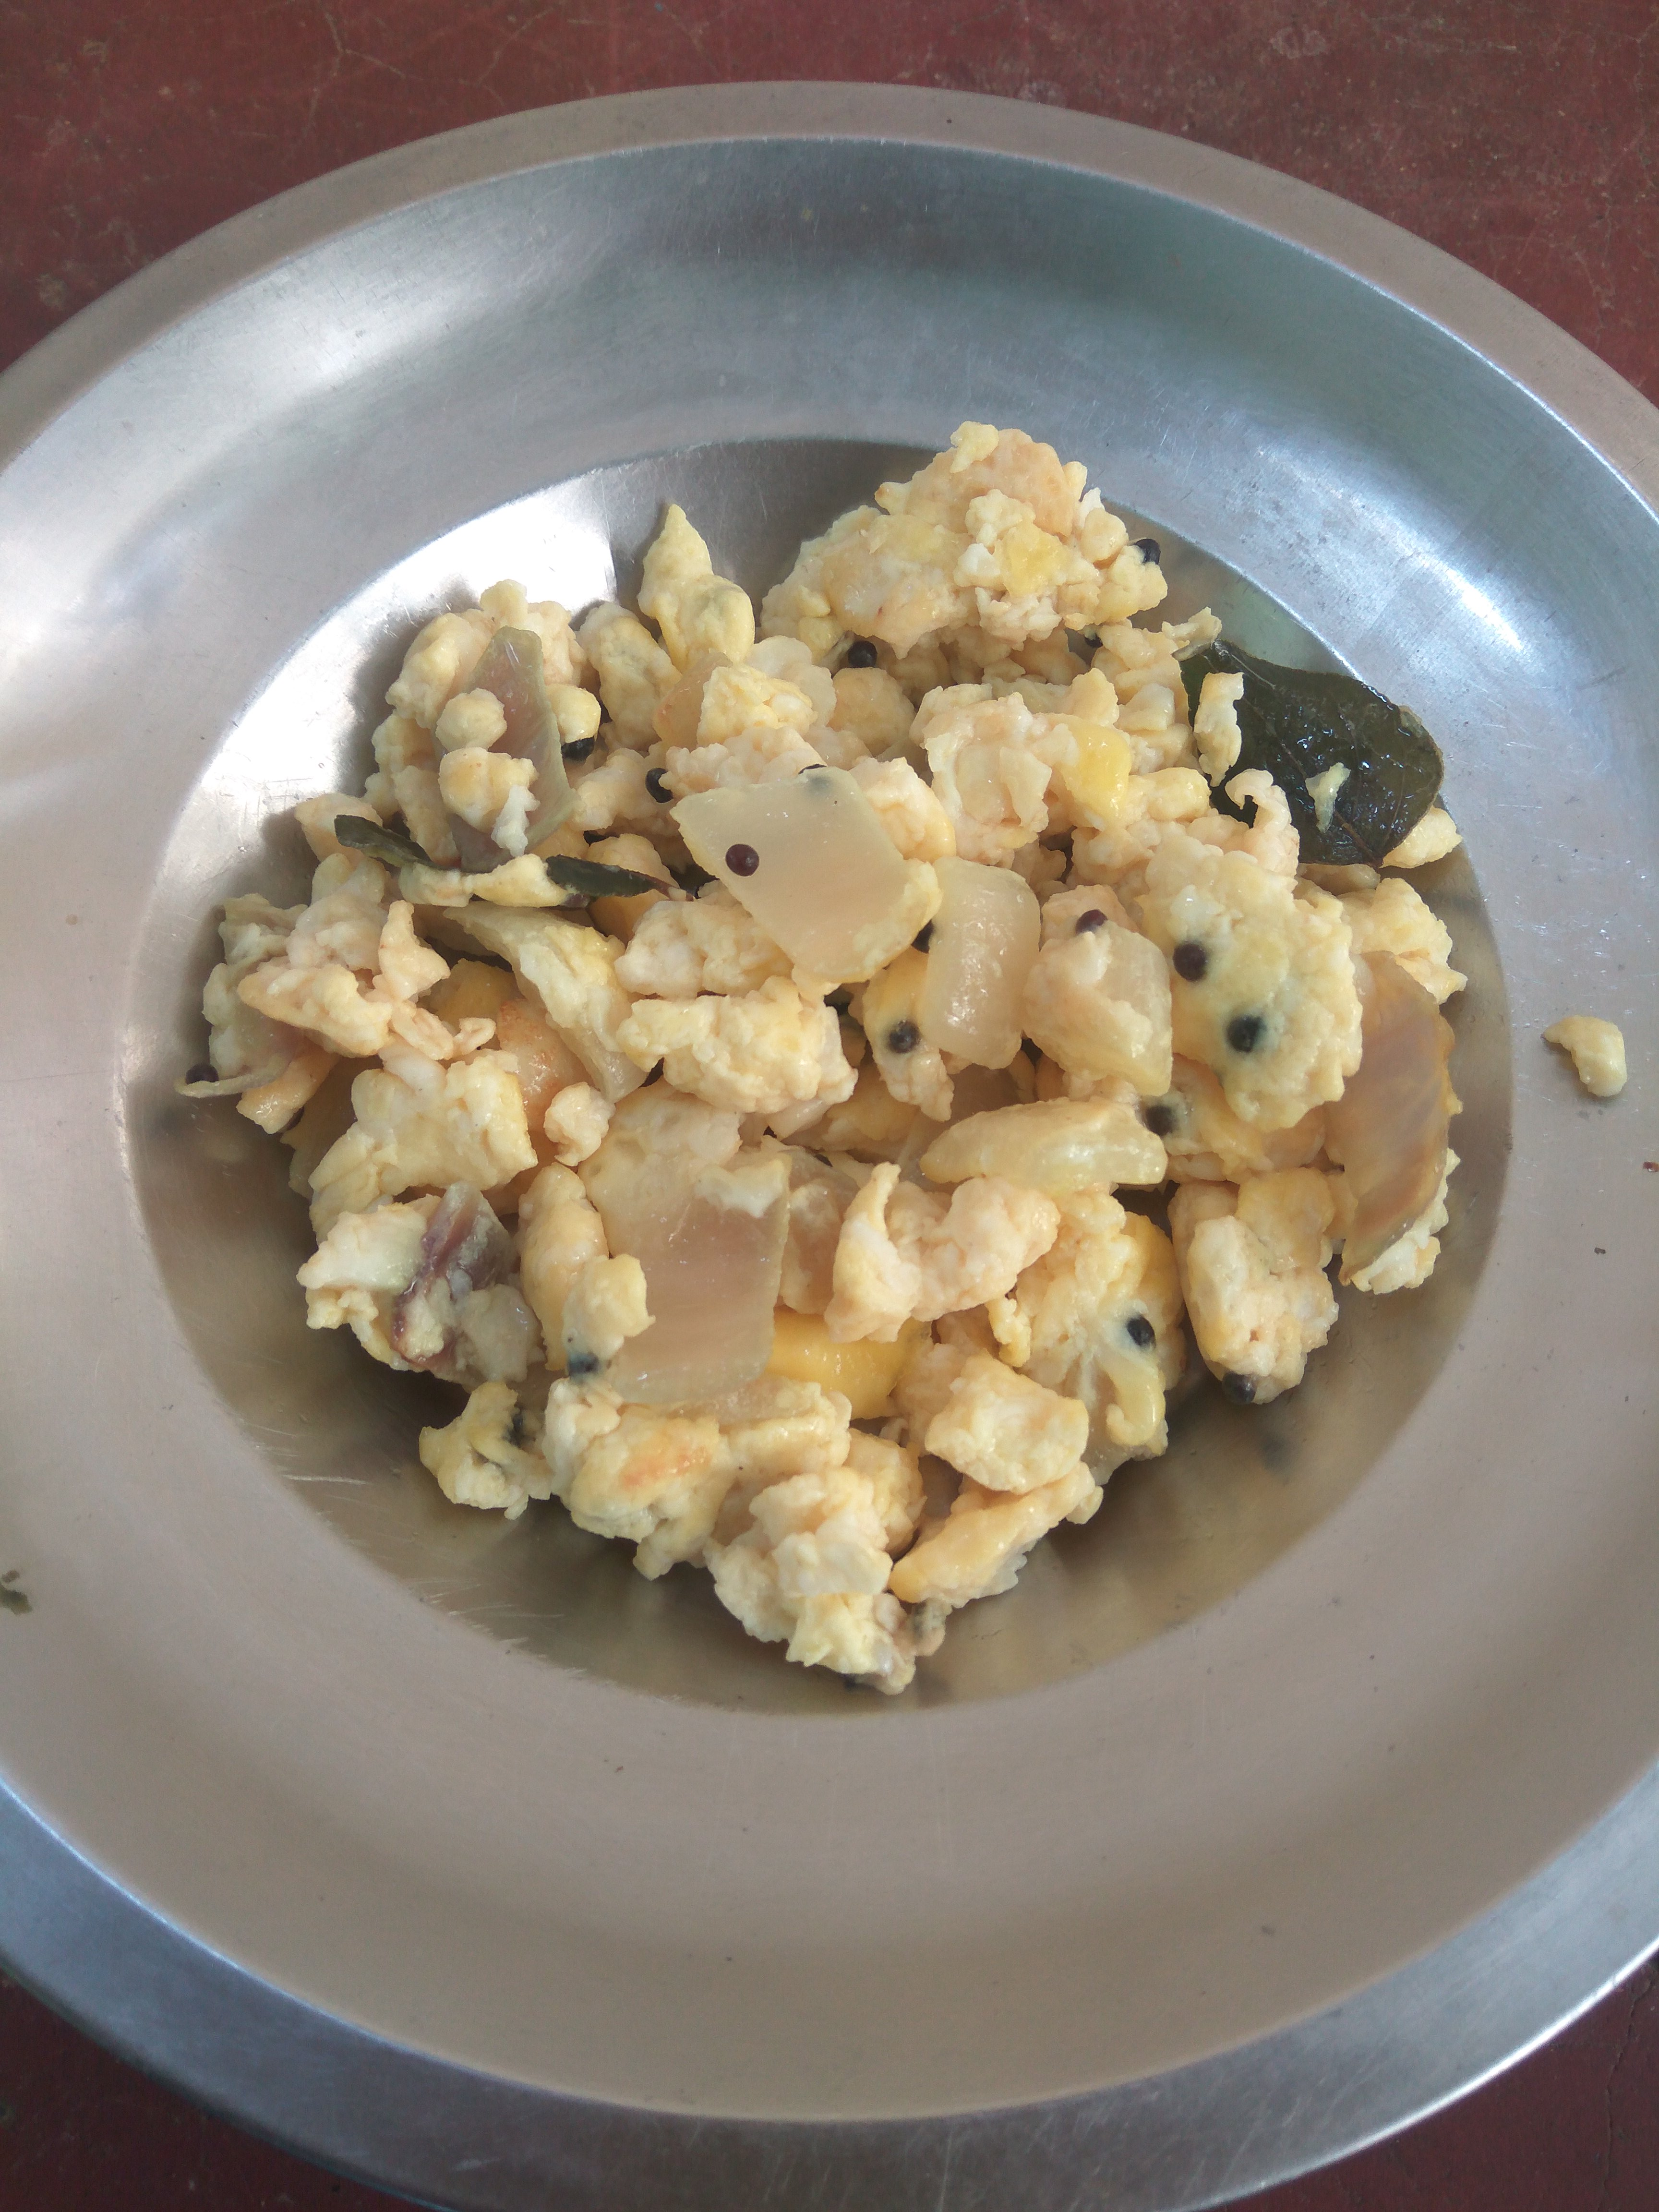food: (167, 411, 1635, 1707)
